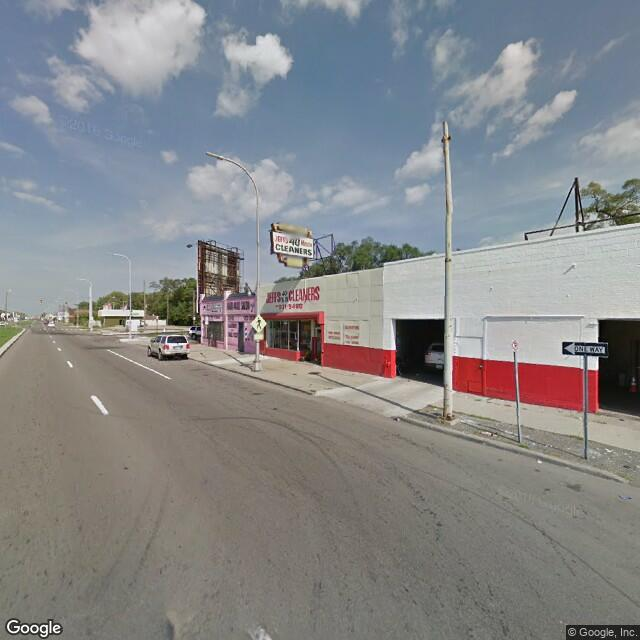litter: (604, 447, 613, 454), (395, 415, 401, 423), (536, 458, 544, 463)
